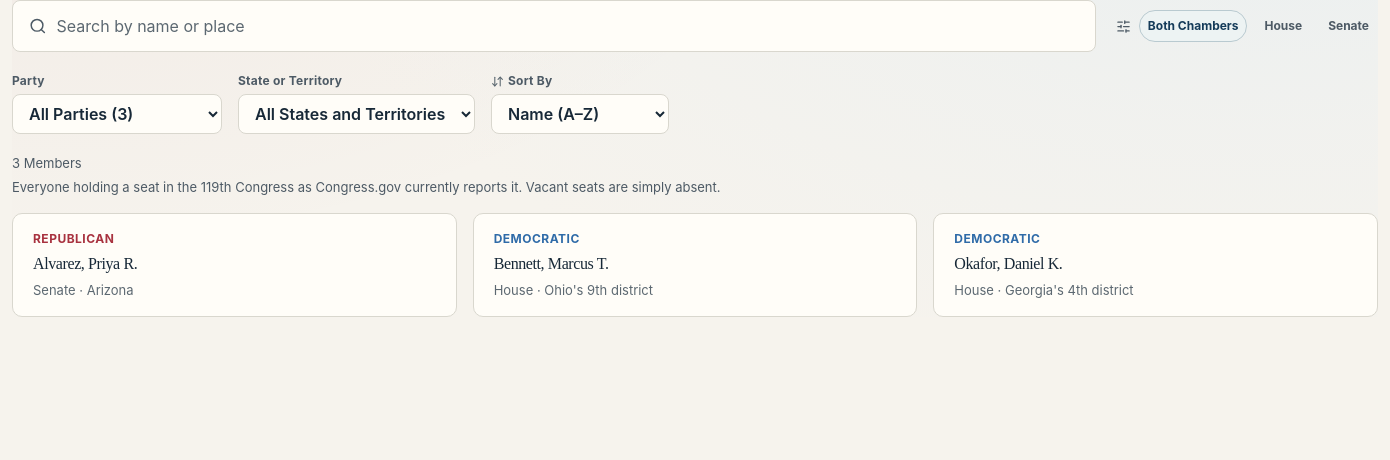
Test: MemberDirectory › explains an empty result instead of showing a bare empty grid
Type "nobody" into the search field named "Search members" at (567, 26), box [55,13,1079,39]
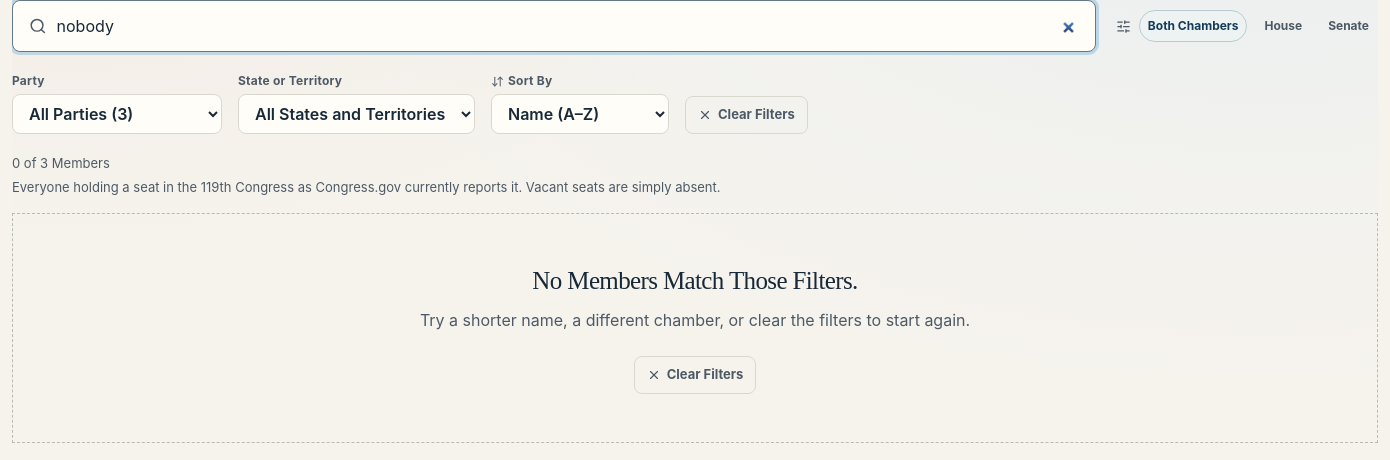
Expected: the heading "No Members Match Those Filters." is shown, [532,267,858,294]
